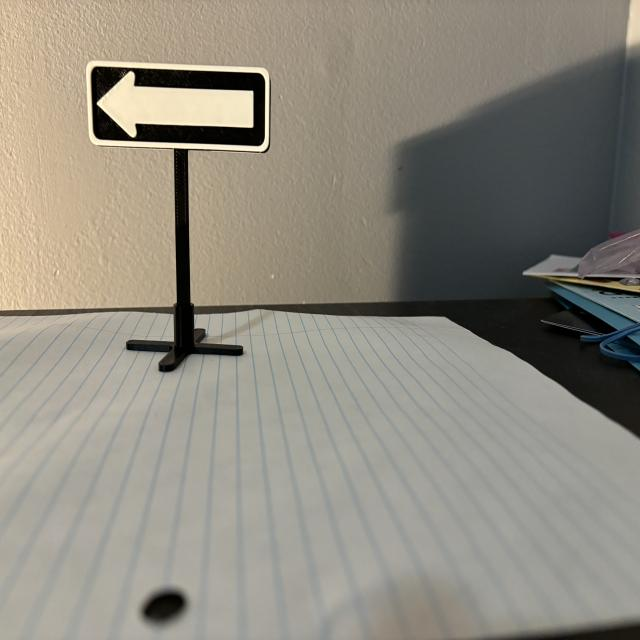sign_oneway_left: (88, 62, 271, 154)
